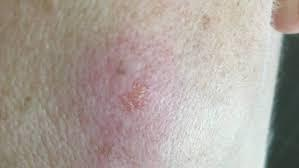Spider: (106, 61, 145, 110)
